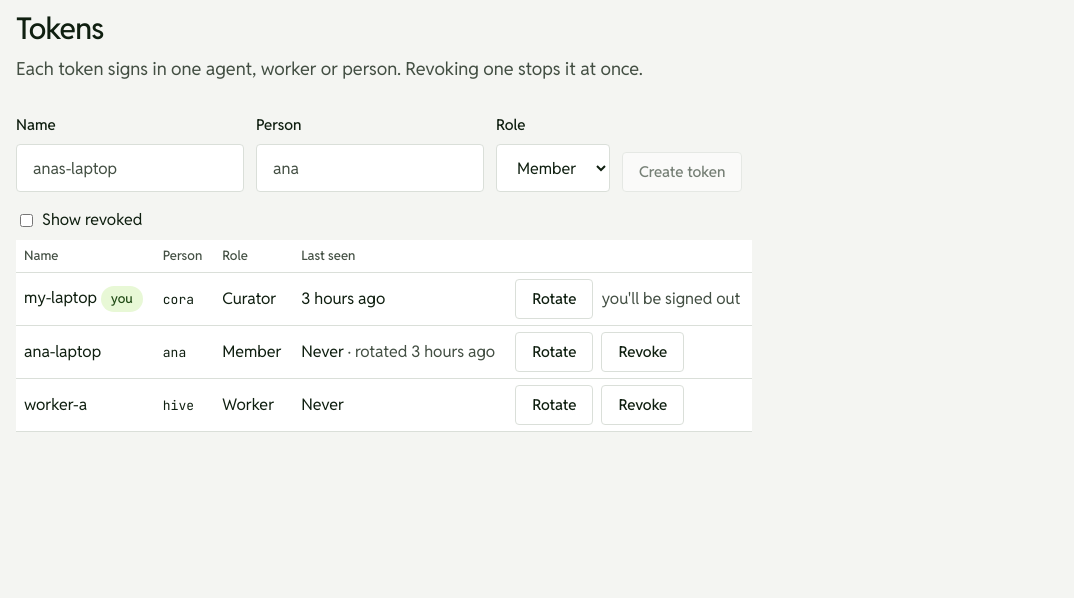
Test case: tokens page › Copy puts the new token on the clipboard
Check: the text "ana-laptop" is shown, box [16,325,155,378]
Step 1. Click the button with aria-label "Rotate worker-a" → {"x": 554, "y": 404}, box [515,384,593,424]
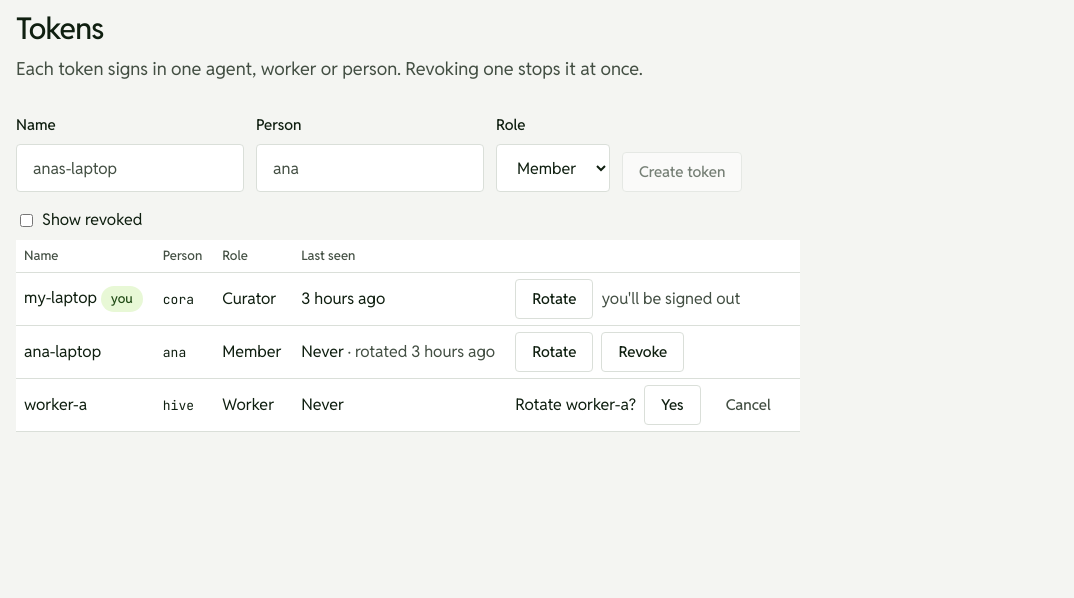
Step 2. Click the button "Yes" → {"x": 672, "y": 404}, box [644,384,701,424]
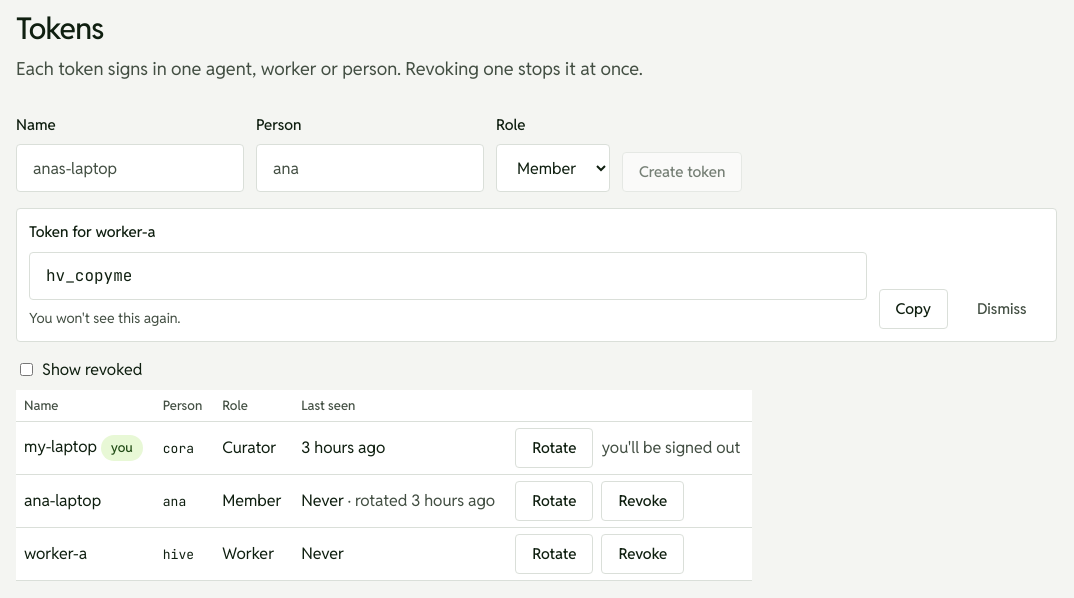
Check: the field labelled "Token for worker-a" is shown, box [29,252,867,300]
Step 3. Click the button "Copy" → {"x": 913, "y": 308}, box [879,288,948,328]
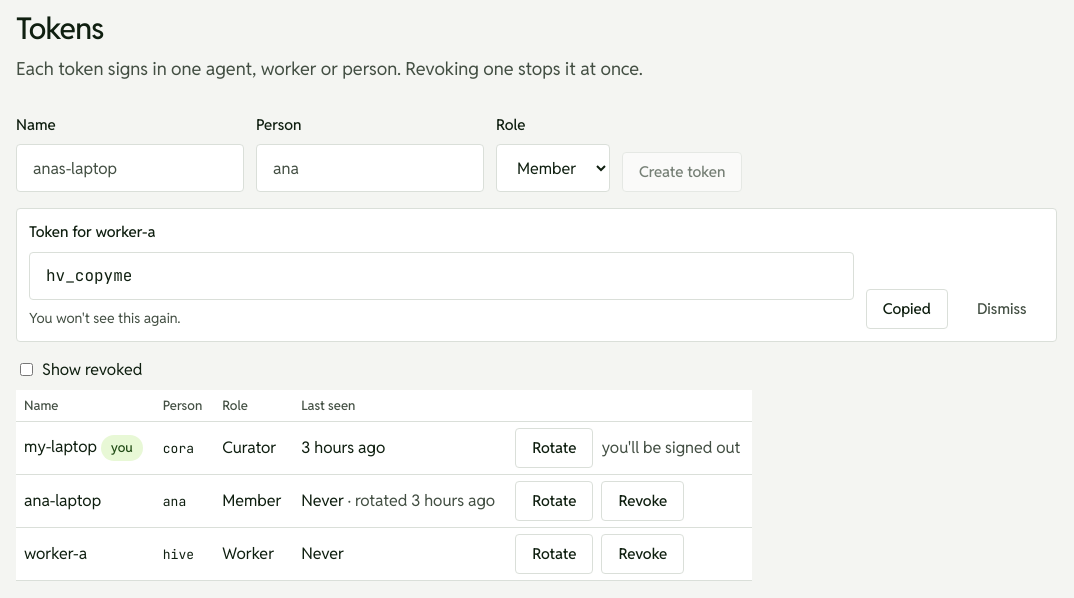
Check: the button "Copied" is shown, box [866,288,948,328]
